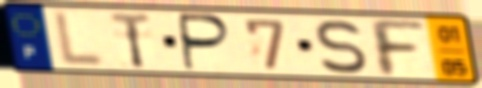7: (240, 17, 287, 72)
F: (364, 17, 429, 79)
L: (52, 9, 108, 70)
P: (178, 11, 234, 74)
S: (313, 18, 370, 76)
T: (107, 11, 154, 71)
